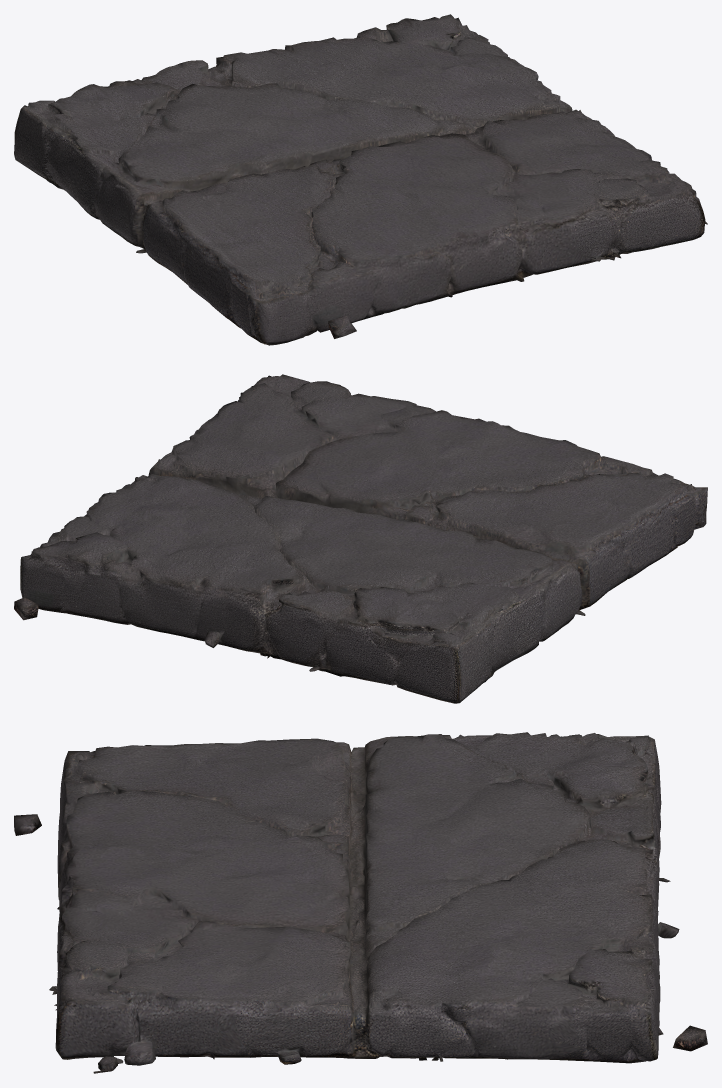
The model's file is floor_damp.glb.
The picture shows the model from 3 angles, top to bottom: view 1: azimuth 30°, elevation 25°; view 2: azimuth 150°, elevation 25°; view 3: azimuth 270°, elevation 25°; orthographic projection. The views are drawn at different scales.
Parts seen in each view (by area): view 1: tripo_node_7b41eb15-e4ce-4f27-8bf5-28915ac730f6; view 2: tripo_node_7b41eb15-e4ce-4f27-8bf5-28915ac730f6; view 3: tripo_node_7b41eb15-e4ce-4f27-8bf5-28915ac730f6.
Part boxes in pixels (x1=…): tripo_node_7b41eb15-e4ce-4f27-8bf5-28915ac730f6: x1=14, y1=14, x2=707, y2=345; tripo_node_7b41eb15-e4ce-4f27-8bf5-28915ac730f6: x1=14, y1=374, x2=707, y2=703; tripo_node_7b41eb15-e4ce-4f27-8bf5-28915ac730f6: x1=14, y1=732, x2=707, y2=1073.
Bounding box in the file's own units: 0.9266 × 0.1422 × 1.
Materials: 1 (1 with a texture image).
